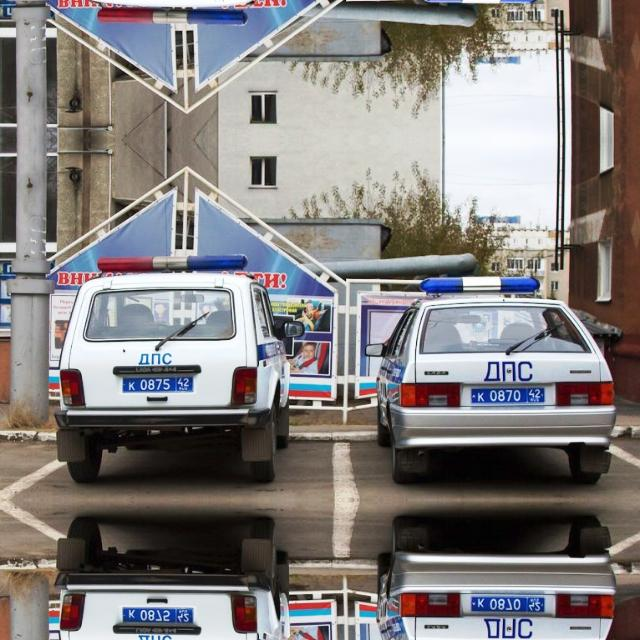police: (119, 600, 198, 626), (466, 383, 550, 407), (466, 592, 550, 616), (119, 374, 198, 398)
